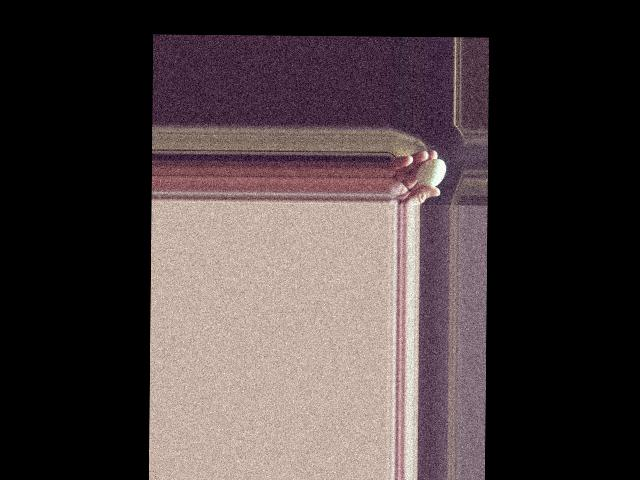egg: (415, 158, 445, 187)
